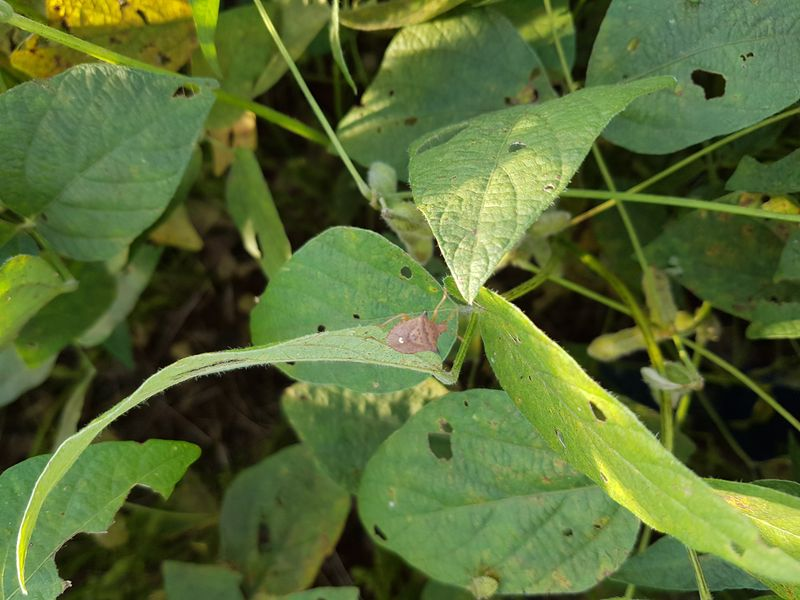Euschistus_heros_adulto: (356, 295, 467, 380)
Euschistus_heros_ninfa: (458, 565, 504, 600)
